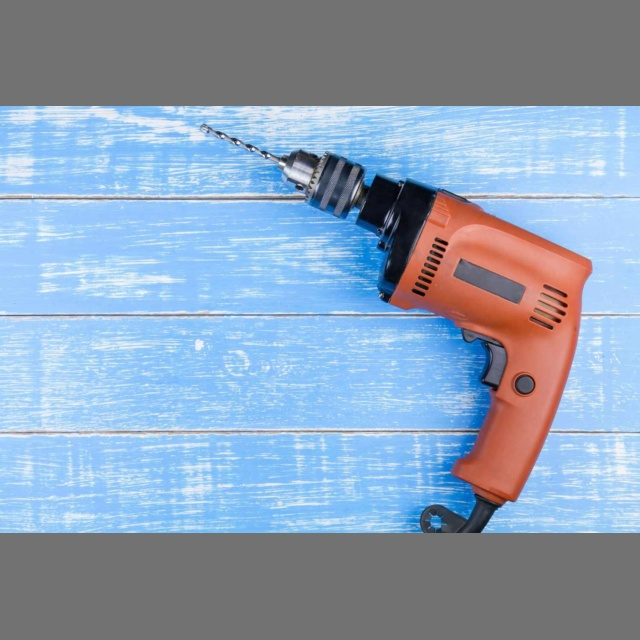drill: (196, 121, 596, 501)
